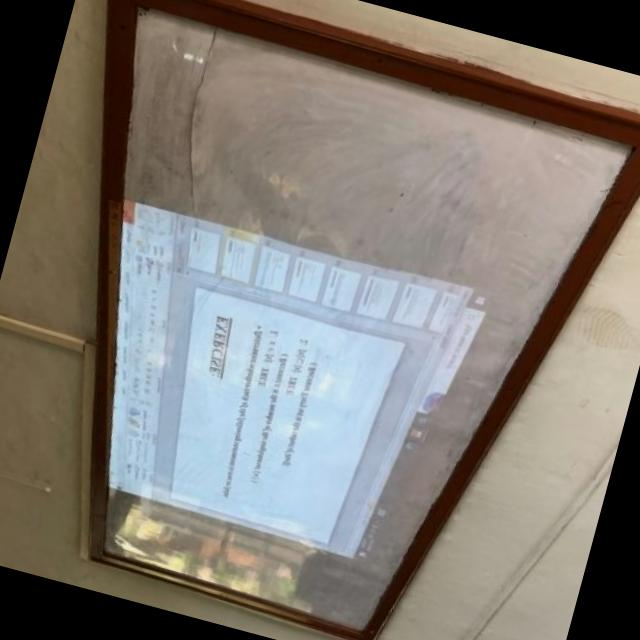Slide: (104, 198, 500, 564)
White-board: (92, 0, 640, 640)
